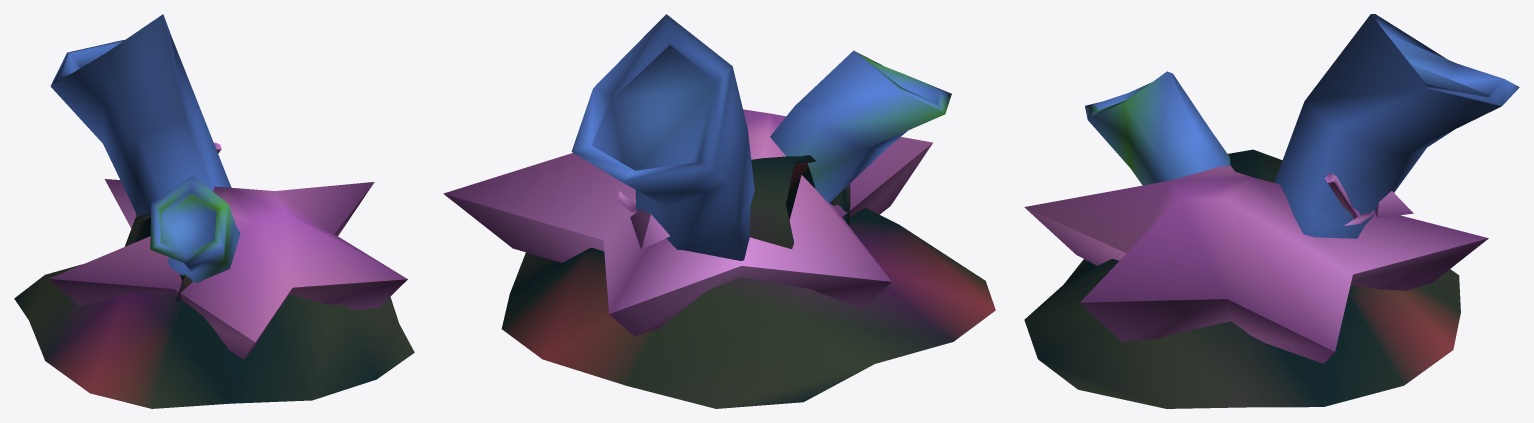
The model's file is props.glb.
3 renders of one model, left to right at view 1: azimuth 30°, elevation 25°; view 2: azimuth 150°, elevation 25°; view 3: azimuth 270°, elevation 25°, orthographic. The views are drawn at different scales.
Parts seen in each view (by area): view 1: can, smokingstar, tubules; view 2: can, tubules, smokingstar; view 3: smokingstar, tubules, can.
Part boxes in pixels (left/top/right/bottom): can: left=14, top=213, right=414, bottom=408; smokingstar: left=48, top=142, right=407, bottom=359; tubules: left=50, top=14, right=240, bottom=283; can: left=501, top=155, right=995, bottom=408; tubules: left=571, top=14, right=951, bottom=260; smokingstar: left=443, top=109, right=932, bottom=336; smokingstar: left=1024, top=166, right=1488, bottom=363; tubules: left=1085, top=14, right=1519, bottom=238; can: left=1024, top=149, right=1460, bottom=408.
Size of the model in its own units: 1.88 by 1.43 by 1.93.
